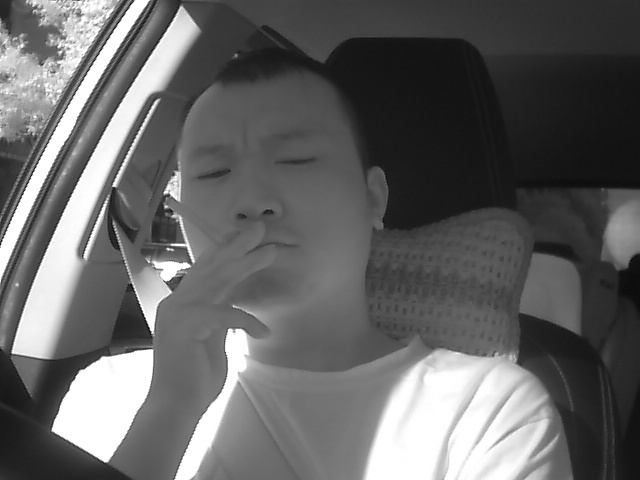hand: (153, 233, 275, 400)
